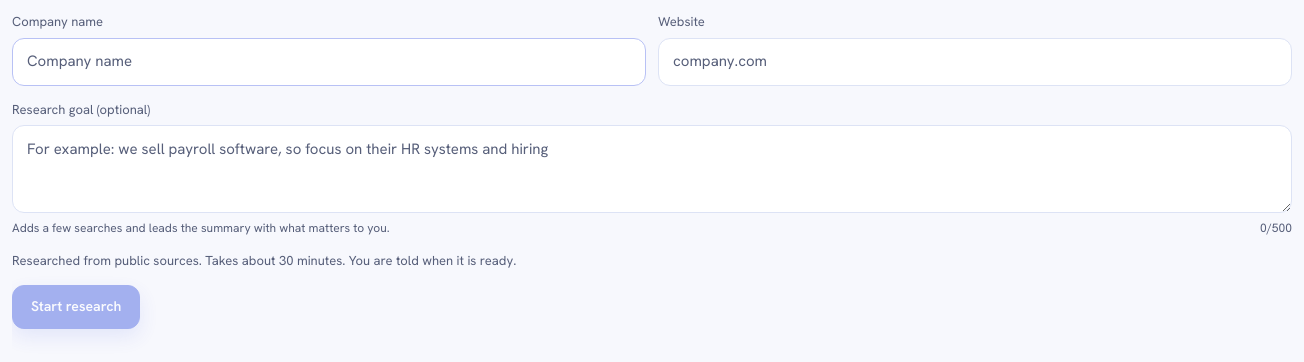
it: a goal under three characters blocks Start research
The width and height of the screenshot is (1304, 362).
In the field labelled "Company name": (329, 62) [12, 38, 646, 86], type "Acme"
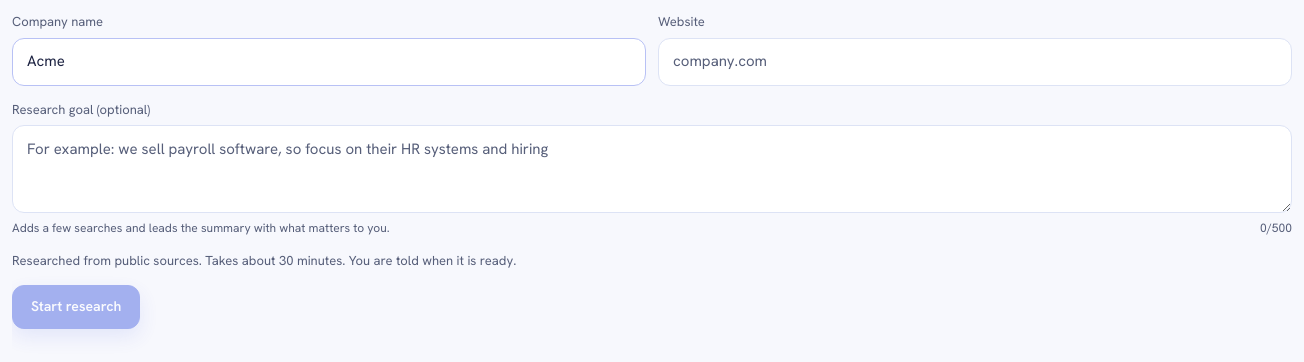
In the field labelled "Website": (975, 62) [658, 38, 1292, 86], type "acme.example"
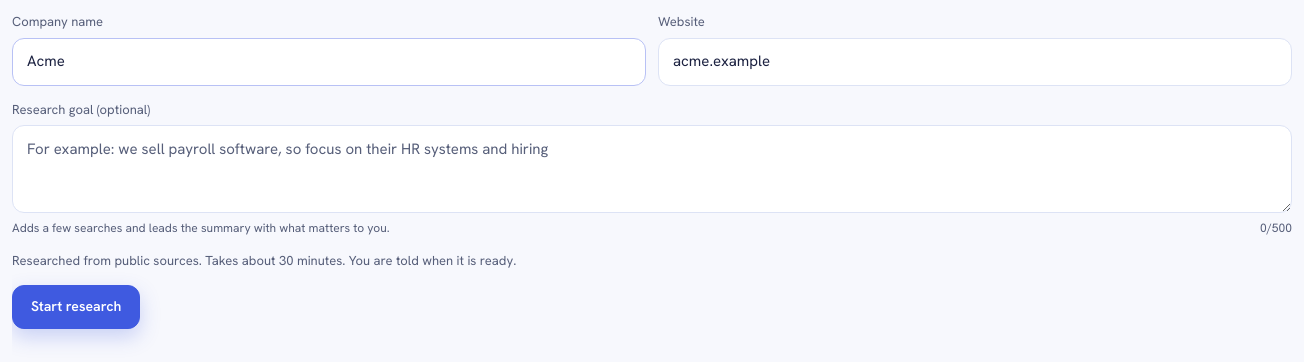
Replace the text in the text box labelled "Research goal (optional)" with "ab": (652, 169) [12, 125, 1292, 213]
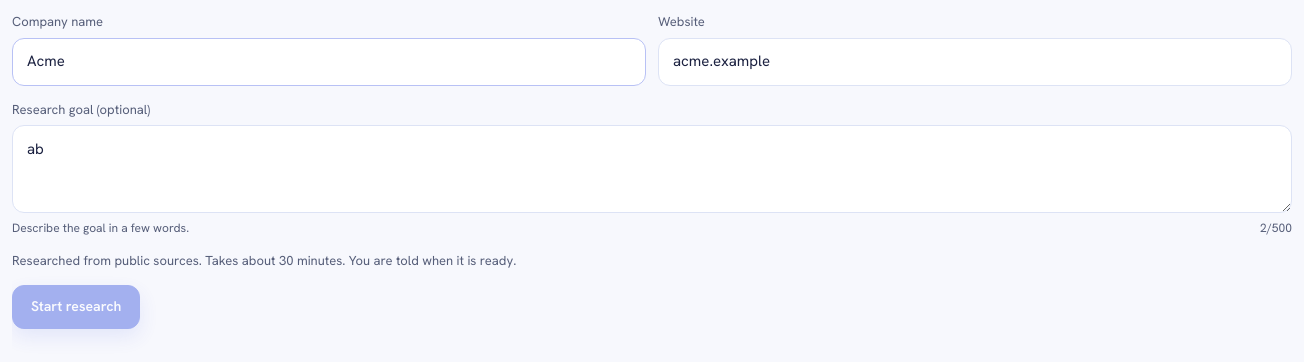
Expected: the button "Start research" is disabled, [12, 284, 140, 328]
Expected: the text "Describe the goal in a few words." is shown, [12, 219, 189, 237]
